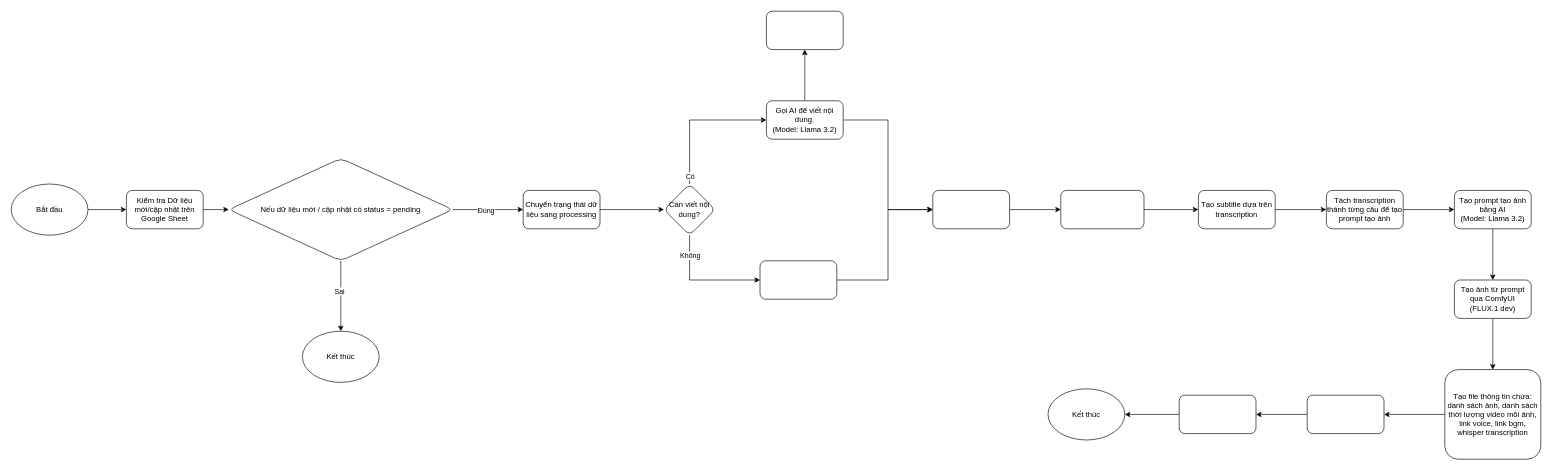
Image size: 1552x470. Some labels were removed from this diagram. Each missing label, with the centre of its shape:
"Gửi request tạo video với các tham số" belongs at [1345,414].
"Lưu link download vào Google sheet" belongs at [1217,414].
"Lưu nội dung đã tạo vào Google Sheet" belongs at [804,30].
"Lưu voice để xử lý tạo transcription (hỗ trợ tạo subtitle)" belongs at [1102,209].
"Lấy dữ liệu từ nội dung có sẵn" belongs at [798,279].
"Tạo voice (OpenAI)" belongs at [971,209].
